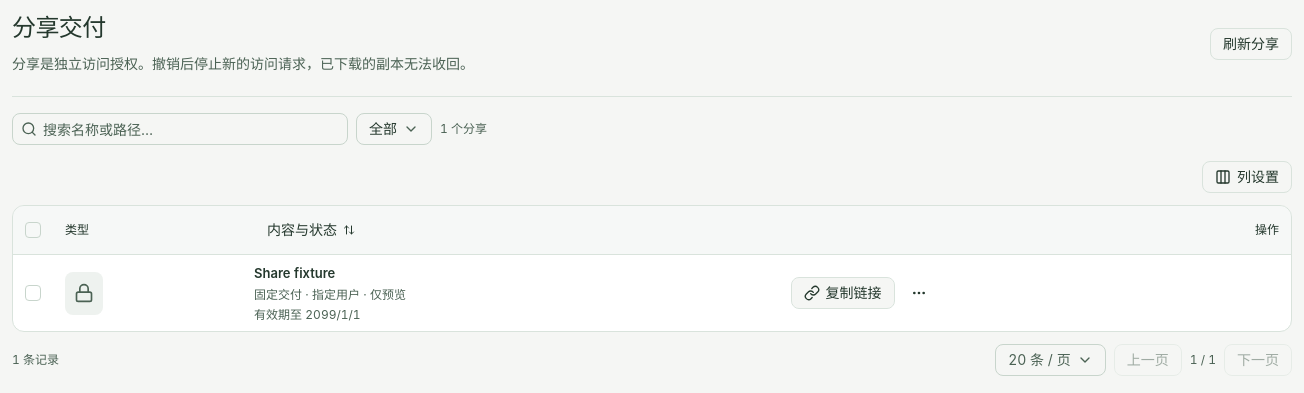
Scenario: clears shares on a denied link read (401)
Click the button "复制链接".
click(843, 293)  # box [791,277,895,309]
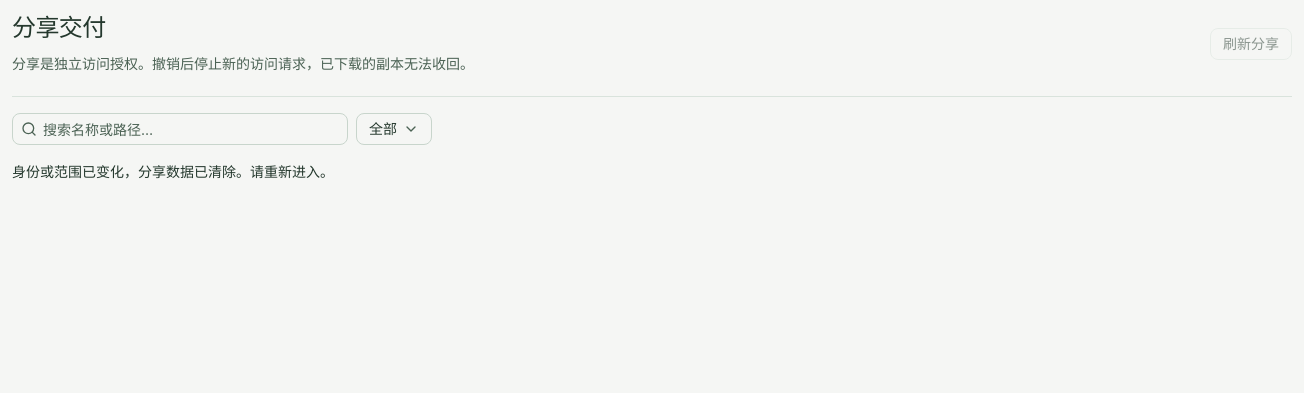
Expected: the text "身份或范围已变化，分享数据已清除。请重新进入。" is shown, [12,163,334,180]
Expected: the text "Share fixture" is gone
